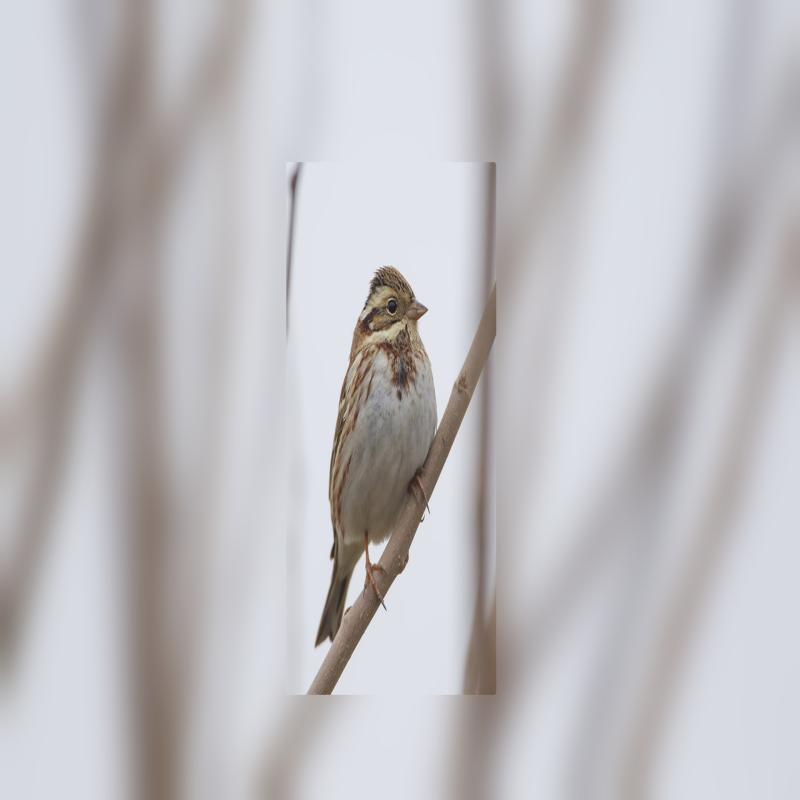rustic bunting: (308, 256, 460, 658)
